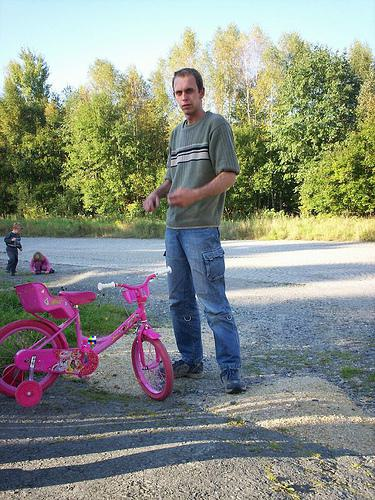car: (1, 272, 184, 409)
person: (143, 69, 251, 395), (3, 220, 26, 277), (28, 249, 58, 277)
